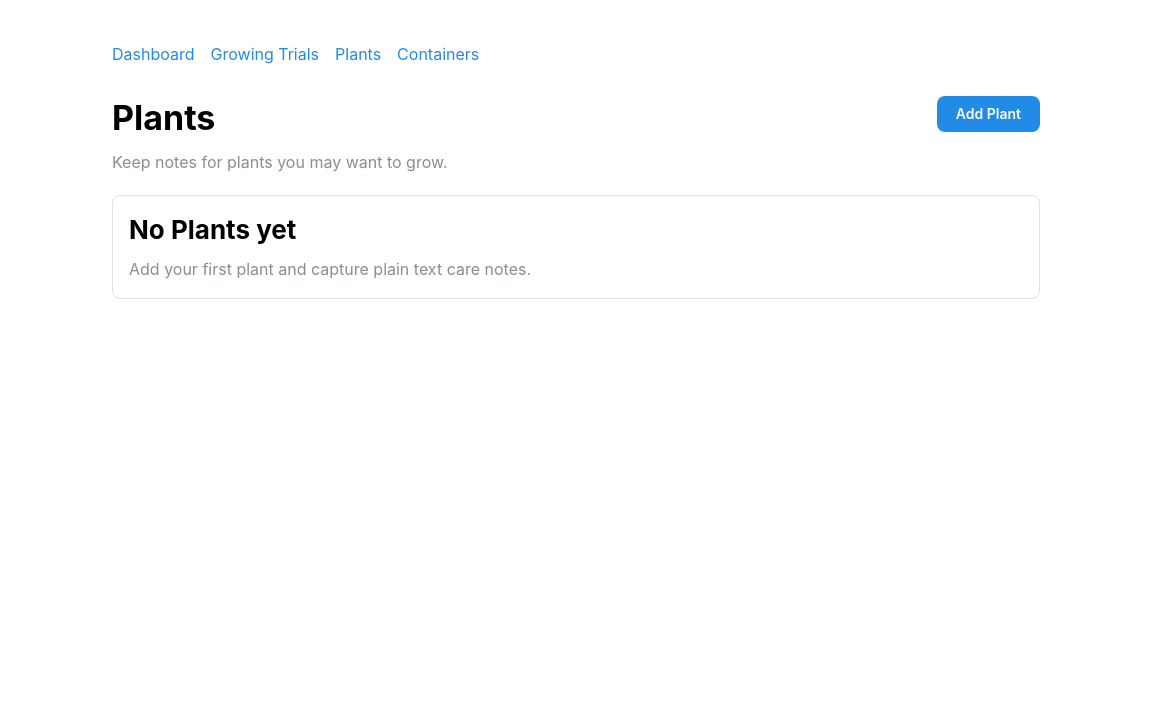
Test case: PlantsPage › opens the create modal from the Add Plant action
Check: the heading "No Plants yet" is shown, box [129, 214, 296, 245]
Click the button "Add Plant".
click(988, 114)  # box [937, 96, 1040, 132]
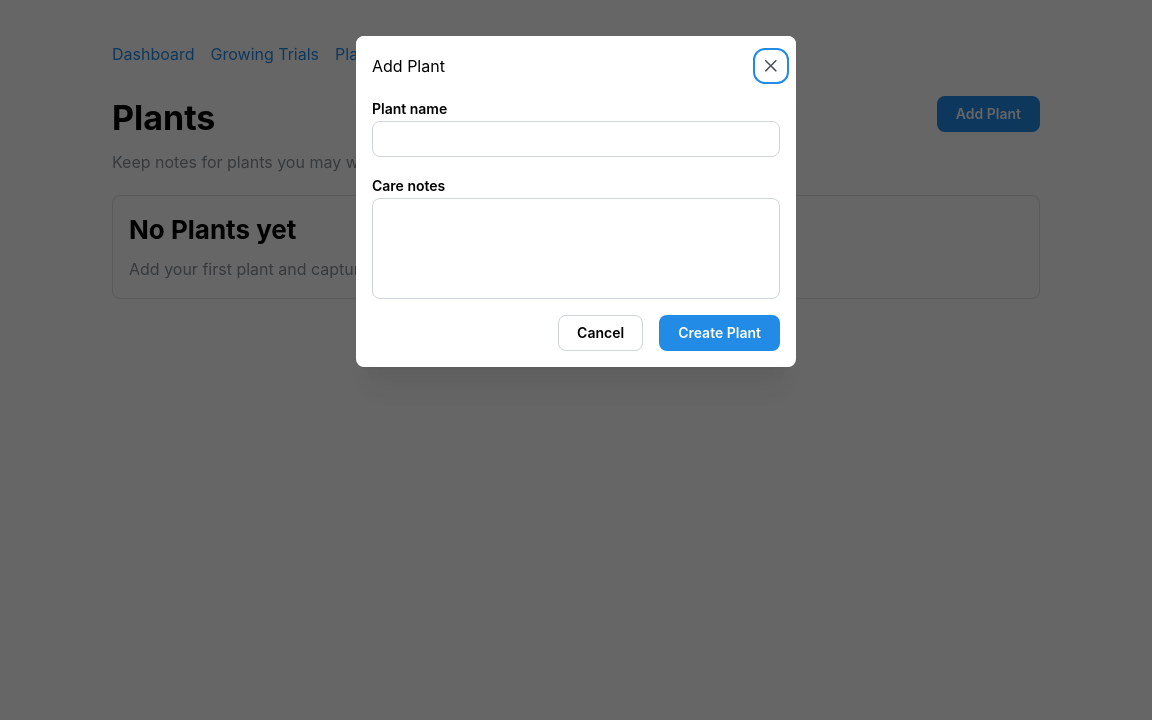
Check: the heading "Add Plant" is shown, box [372, 58, 445, 74]
Check: the field labelled "Plant name" is shown, box [372, 121, 780, 157]
Check: the text box labelled "Care notes" is shown, box [372, 198, 780, 299]
